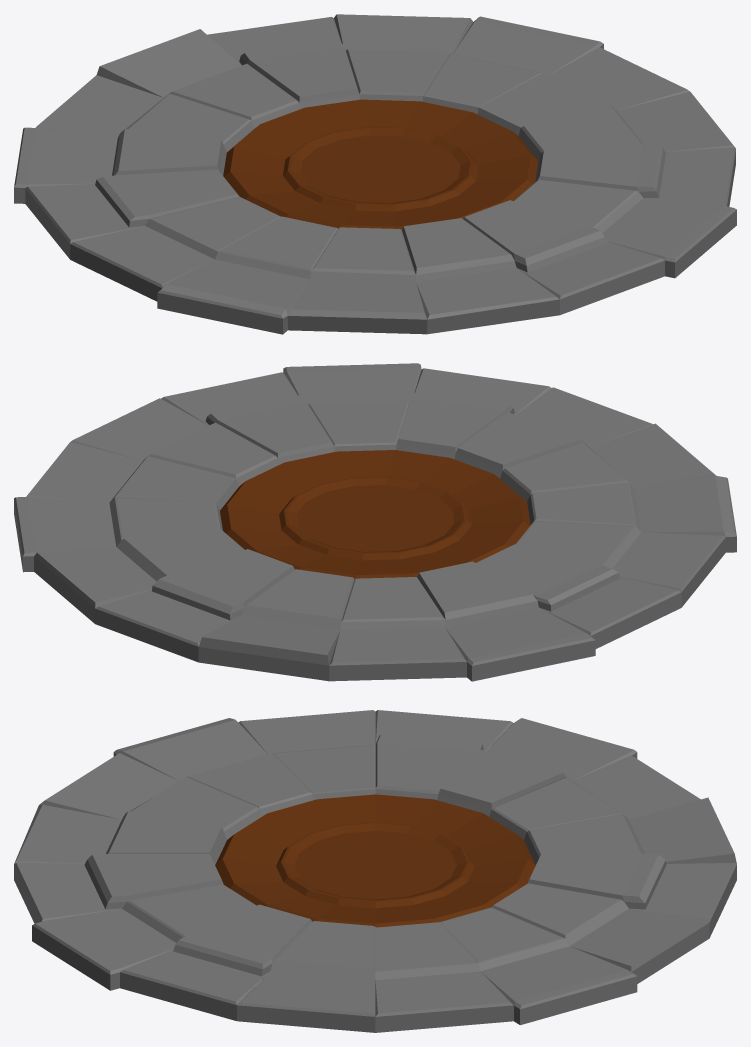
File: altar_b.FBX
3 renders of one model, top to bottom at view 1: azimuth 30°, elevation 25°; view 2: azimuth 150°, elevation 25°; view 3: azimuth 270°, elevation 25°, orthographic. The views are drawn at different scales.
Parts seen in each view (by area): view 1: Cylinder018; view 2: Cylinder018; view 3: Cylinder018.
Part boxes in pixels (box(x1,y1,x2,y2)): Cylinder018: box(14, 14, 736, 334); Cylinder018: box(14, 363, 736, 681); Cylinder018: box(14, 710, 736, 1032).
Bounding box in the file's own units: 16.96 × 0.7123 × 16.96.
